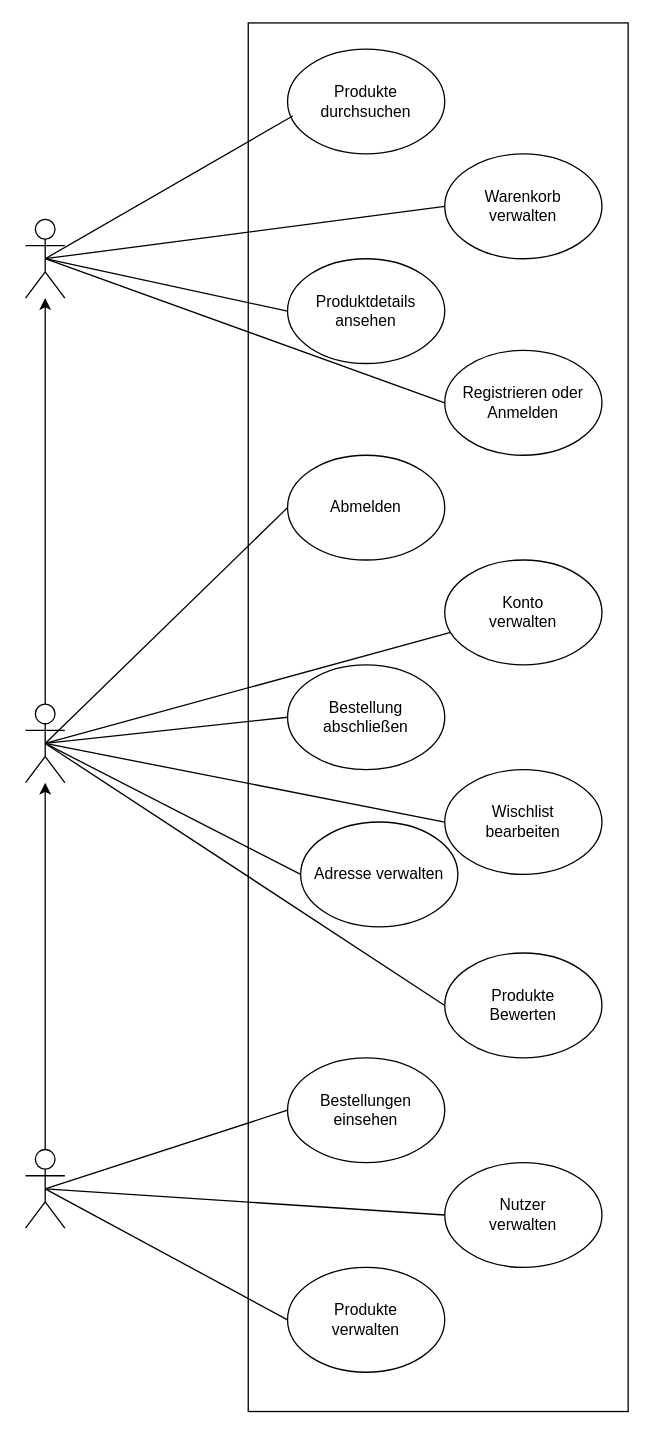
The diagram is 651 pixels wide and 1434 high, and some of its shapes have lost their labels. Here are the shapes that lost their labels. From the top down, the centre of each, then its label:
At [44,258]: "Gast".
At [44,743]: "Kunde".
At [44,1188]: "Admin".
